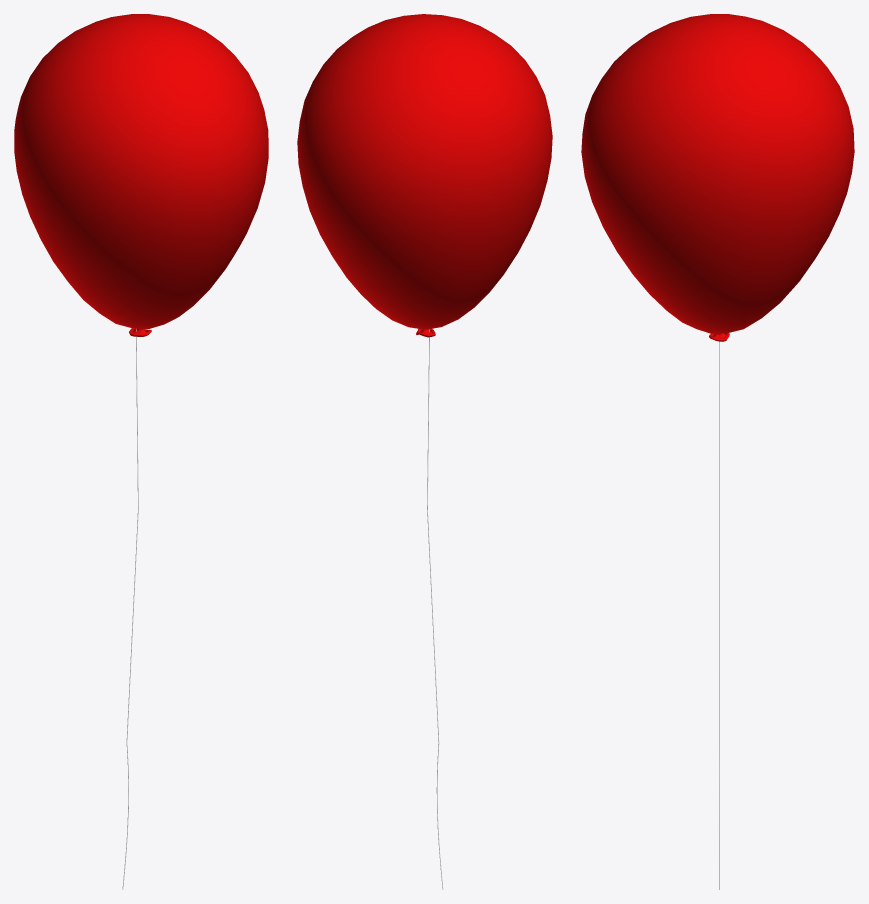
Rendered from ballon__pineapple_on__pizza_pc.glb.
3 renders of one model, left to right at view 1: azimuth 30°, elevation 25°; view 2: azimuth 150°, elevation 25°; view 3: azimuth 270°, elevation 25°, orthographic.
Visible parts, largest first — view 1: Object_7, Object_9; view 2: Object_7, Object_9; view 3: Object_7, Object_9.
Boxes of the visible parts, x1=… form: Object_7: x1=14, y1=14, x2=268, y2=329; Object_9: x1=122, y1=328, x2=138, y2=889; Object_7: x1=297, y1=14, x2=552, y2=329; Object_9: x1=427, y1=329, x2=443, y2=889; Object_7: x1=581, y1=14, x2=854, y2=333; Object_9: x1=719, y1=341, x2=719, y2=889.
Bounding box in the file's own units: 0.9845 × 3.72 × 1.05.
